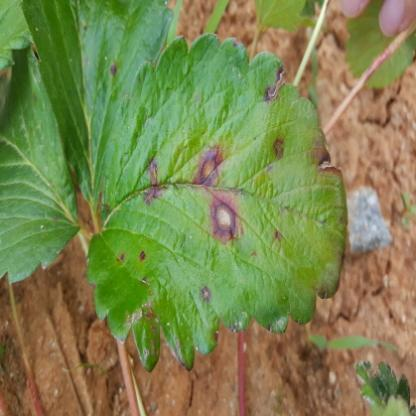Strawberry_Leaf_Spot: (84, 32, 348, 374), (19, 0, 174, 214)
